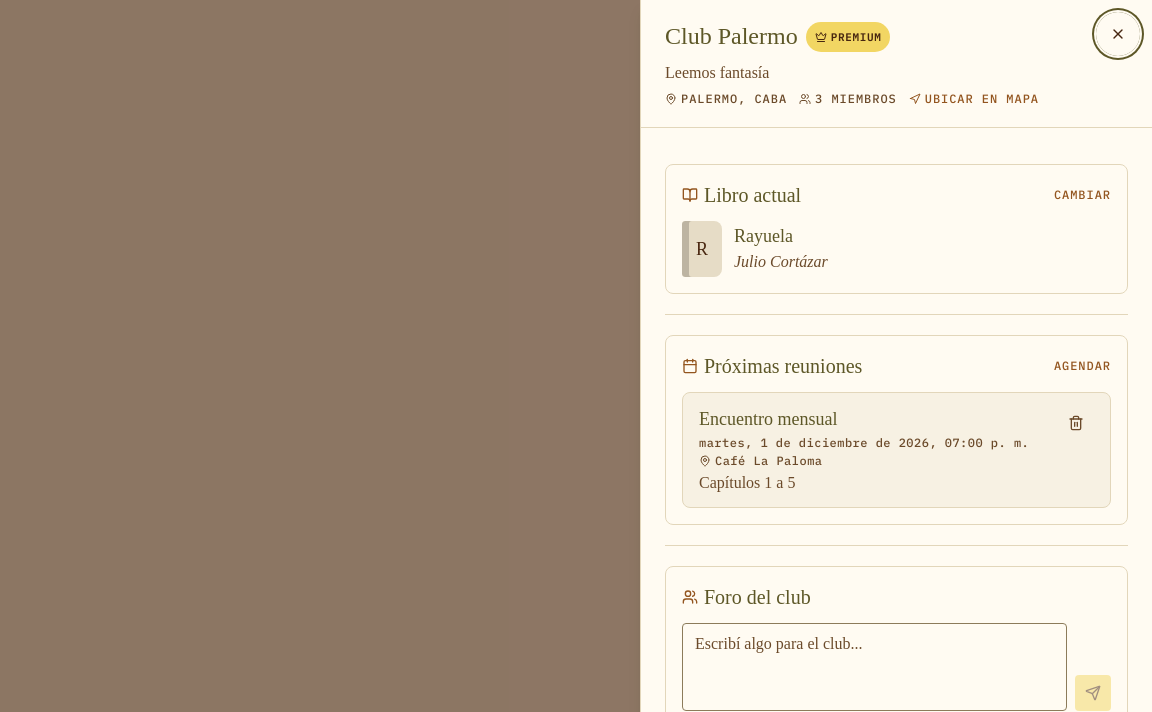
ClubDetailSheet › el admin cambia el libro actual
This screenshot has width=1152, height=712.
Click the button "Cambiar". click: click(1082, 195)
box: [1054,187,1111,203]
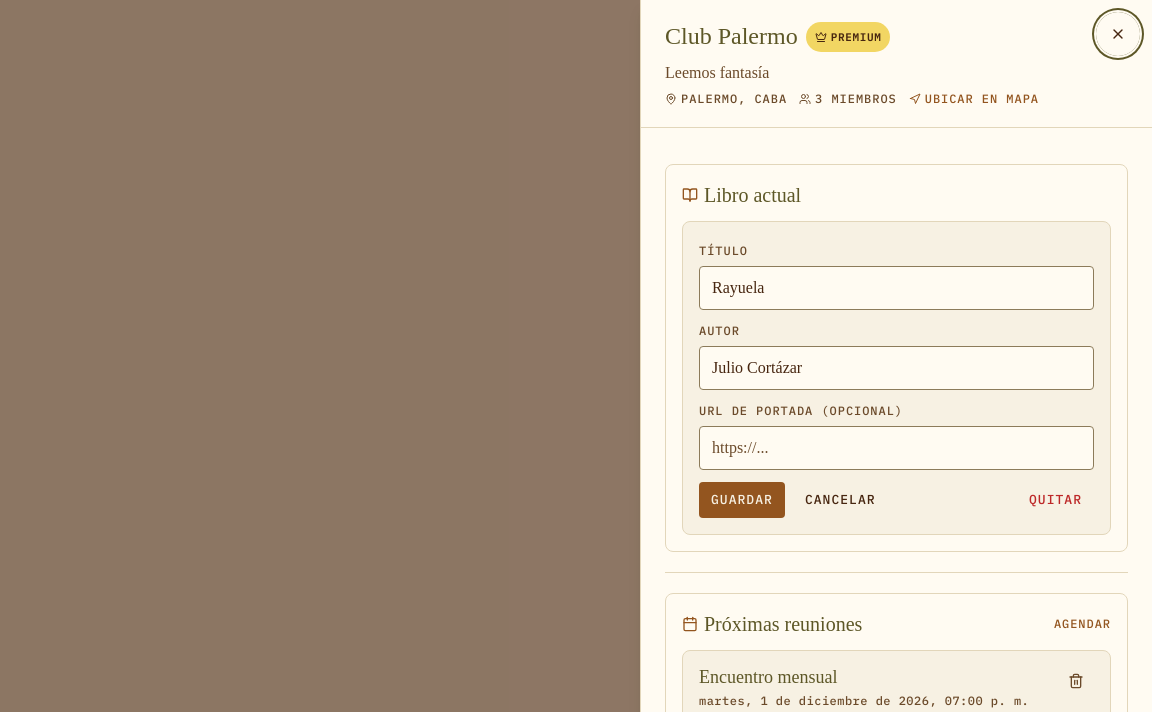
Replace the text in the field with placeholder "Ej: El nombre del viento" below "Título" with "Ficciones". click: (896, 288)
box: [699,266,1094,310]
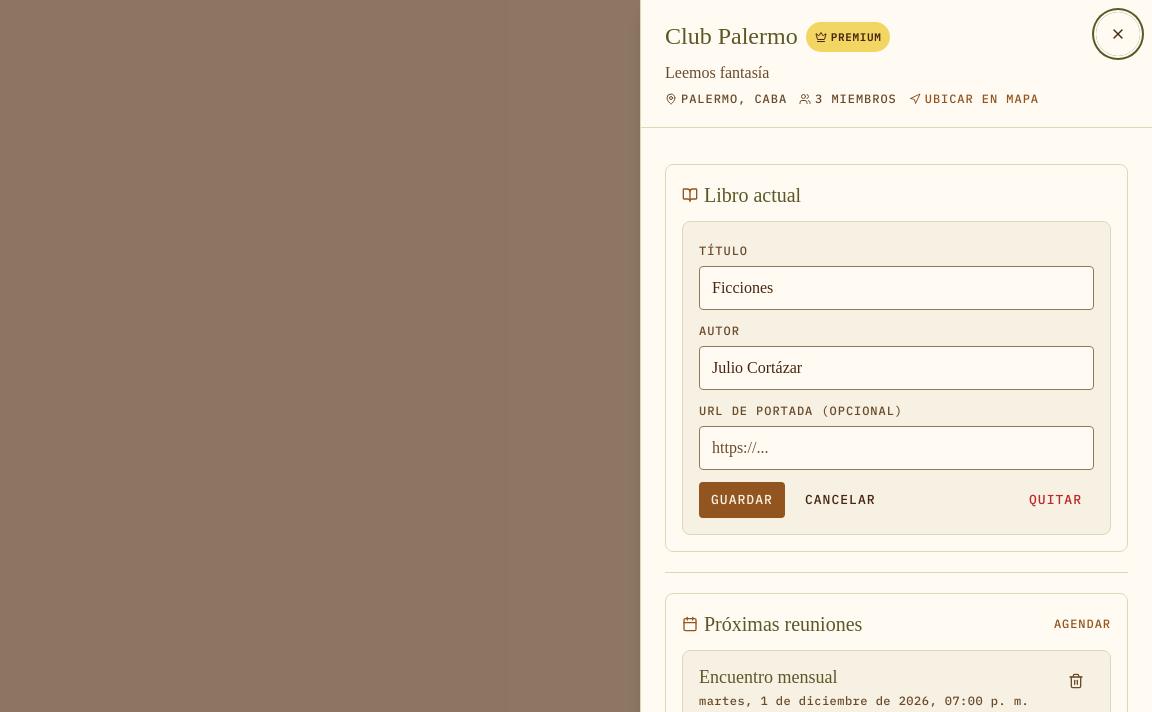
Replace the text in the field with placeholder "Ej: Patrick Rothfuss" below "Autor" with "Borges". click: (896, 368)
box: [699,346,1094,390]
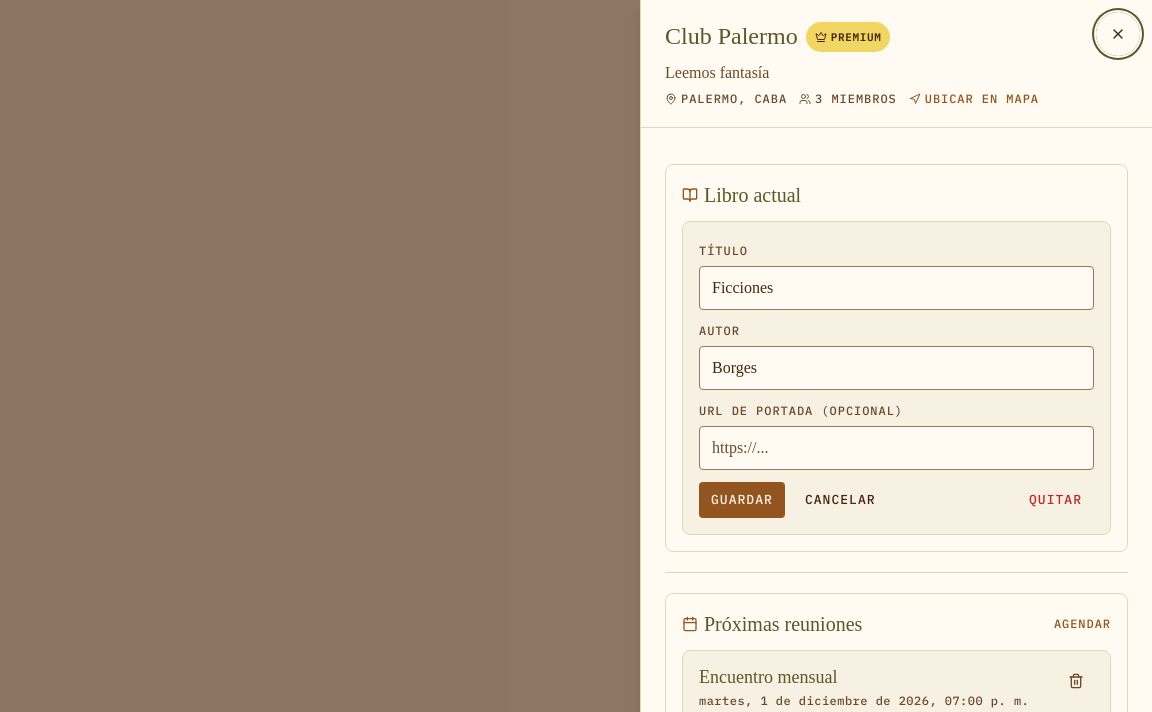
Click the button "Guardar". click: click(742, 500)
box: [699,482,785,518]
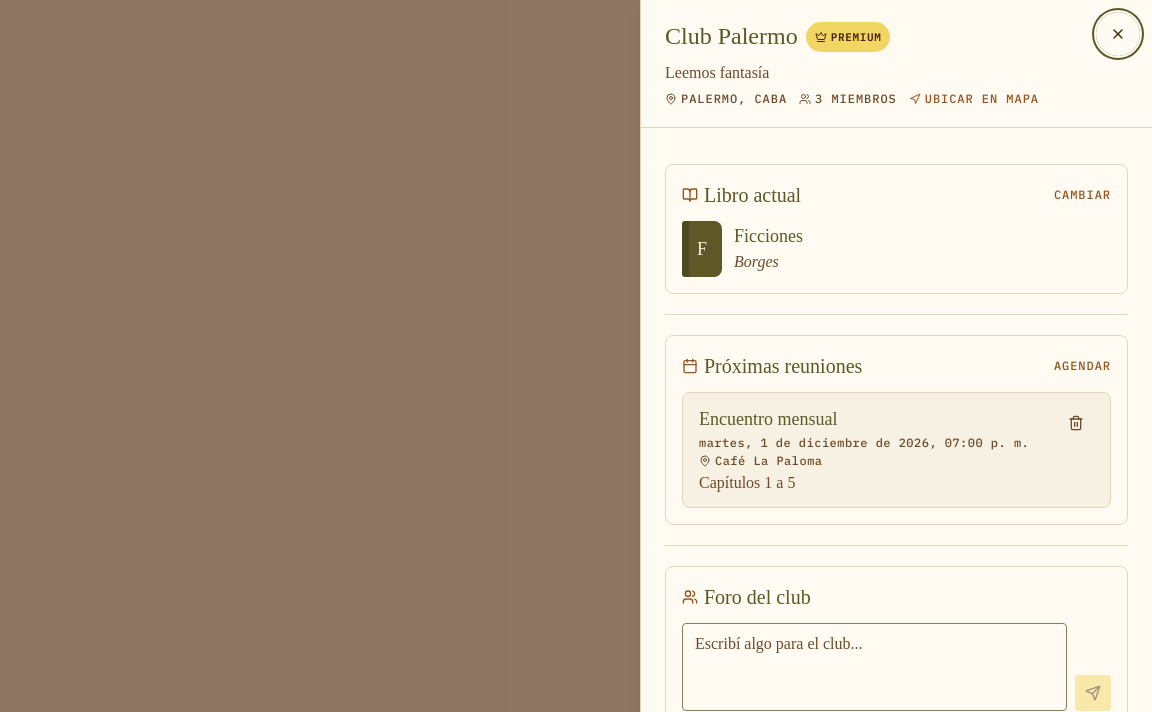
Expected: the text "Ficciones" is shown, [734,224,803,248]
